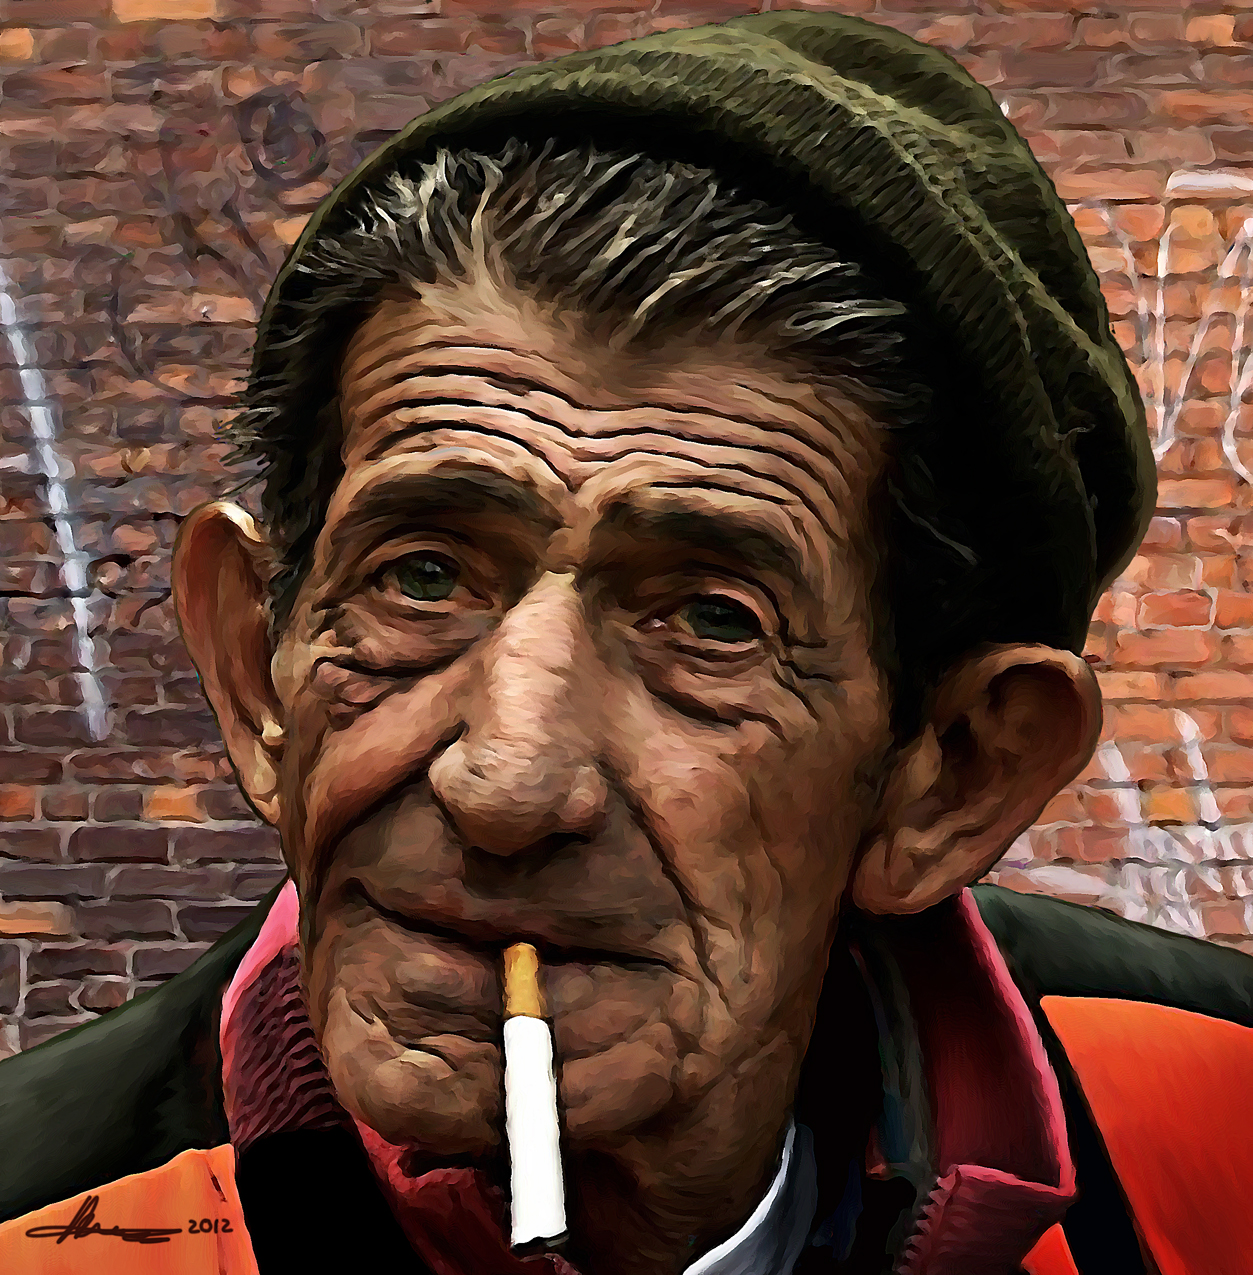cigarette: (484, 931, 592, 1253)
